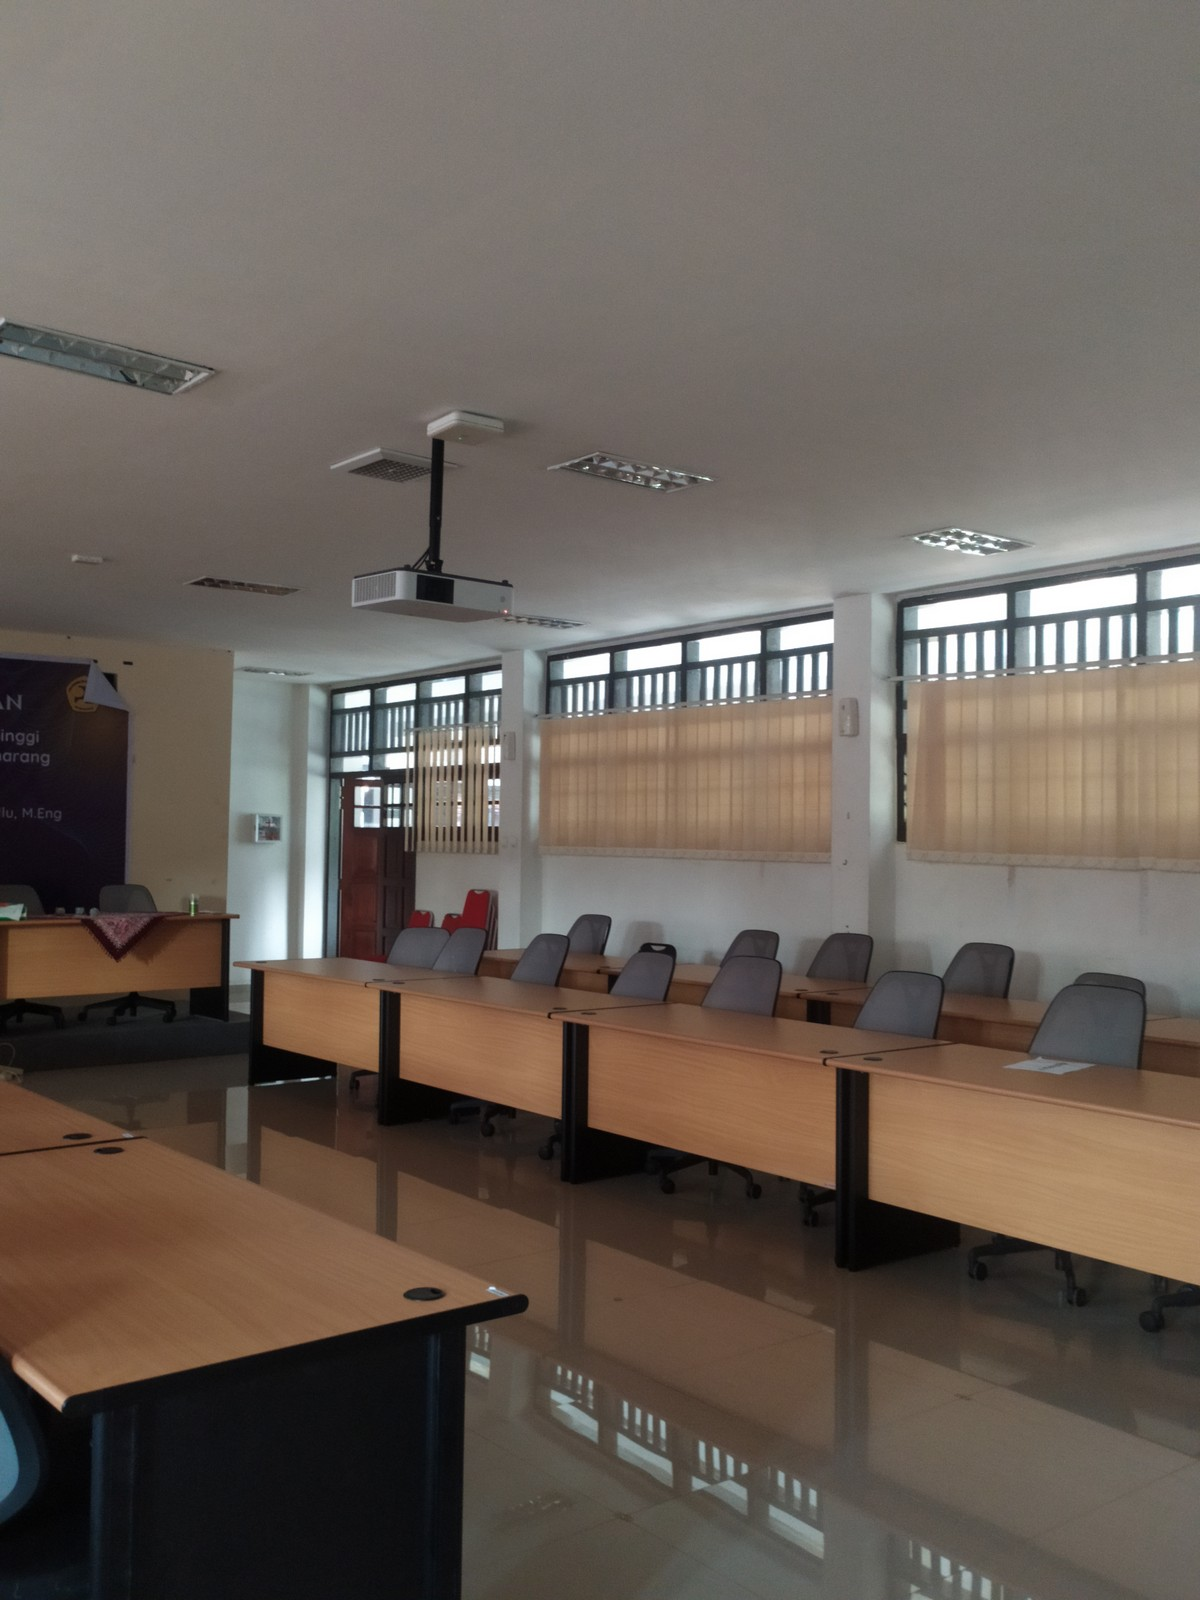concrete column: (827, 582, 904, 975), (495, 641, 553, 950), (284, 674, 330, 957)
